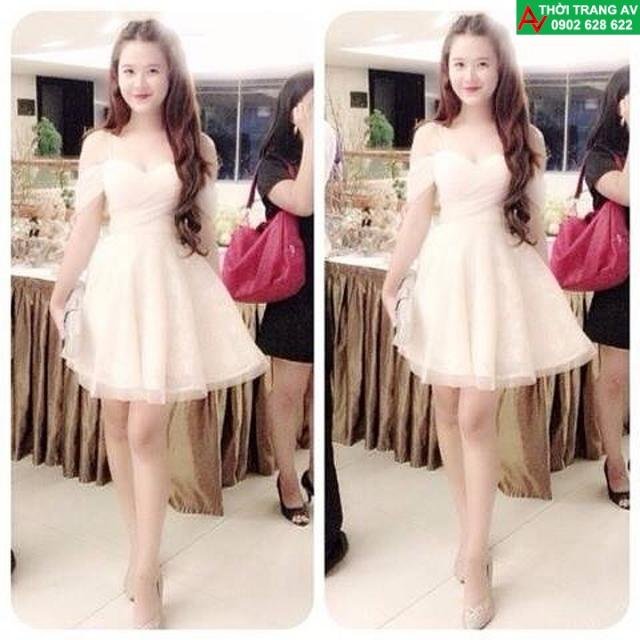clothes: (57, 118, 264, 407), (388, 117, 598, 391)
